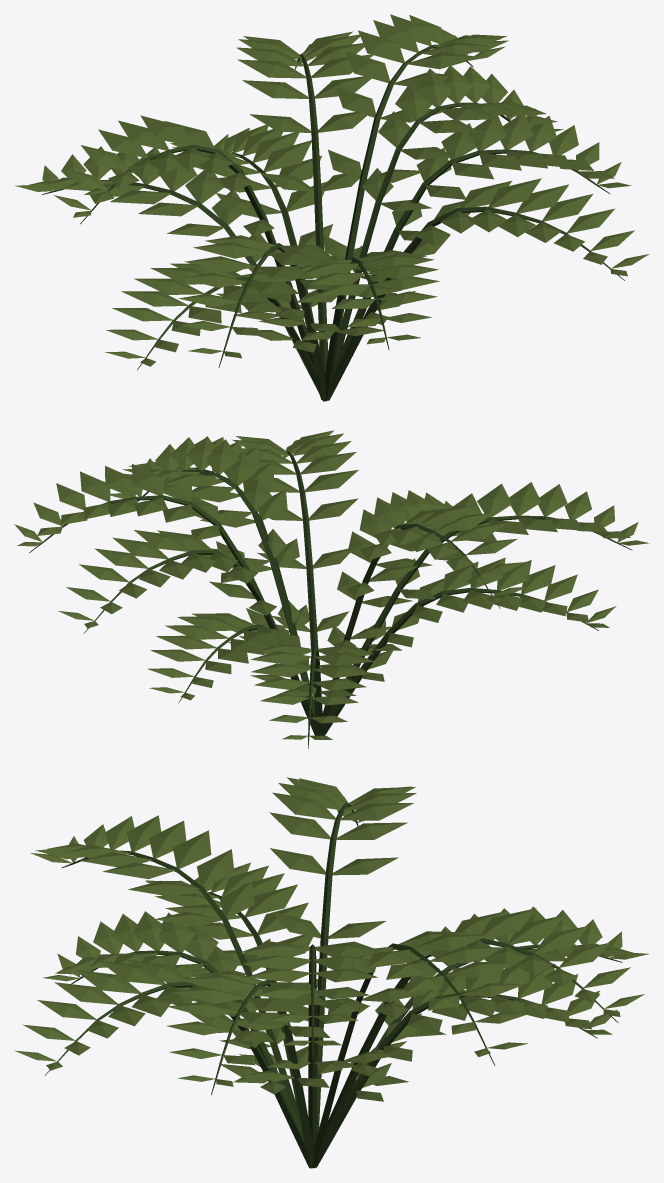
File: strange_fern.glb
3 views of the same model, one above another, from view 1: azimuth 30°, elevation 25°; view 2: azimuth 150°, elevation 25°; view 3: azimuth 270°, elevation 25° (orthographic). The views are drawn at different scales.
Parts seen in each view (by area): view 1: strange_fern; view 2: strange_fern; view 3: strange_fern.
Part boxes in pixels (x1,y1,x2,y2): strange_fern: [14, 14, 649, 401]; strange_fern: [14, 430, 649, 748]; strange_fern: [14, 777, 648, 1168].
Size of the model in its own units: 1.59 by 0.8101 by 1.58.
